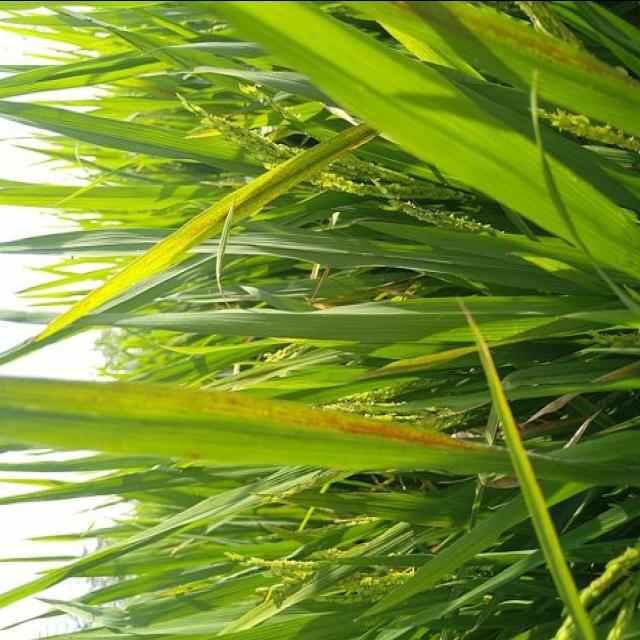Leaf Streak: (28, 121, 379, 342), (0, 388, 483, 447), (438, 0, 598, 69), (380, 0, 433, 19)
